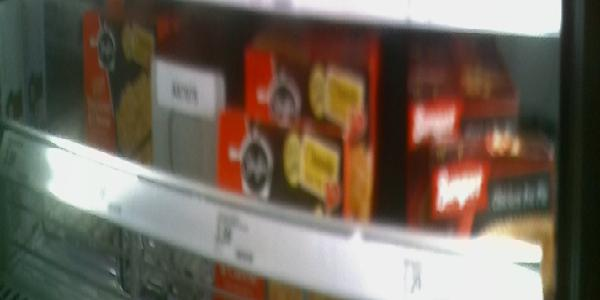pizza1: (82, 7, 153, 170)
pizza2: (215, 111, 376, 231), (237, 38, 373, 116), (404, 208, 560, 262), (405, 161, 555, 208), (407, 101, 535, 151)
